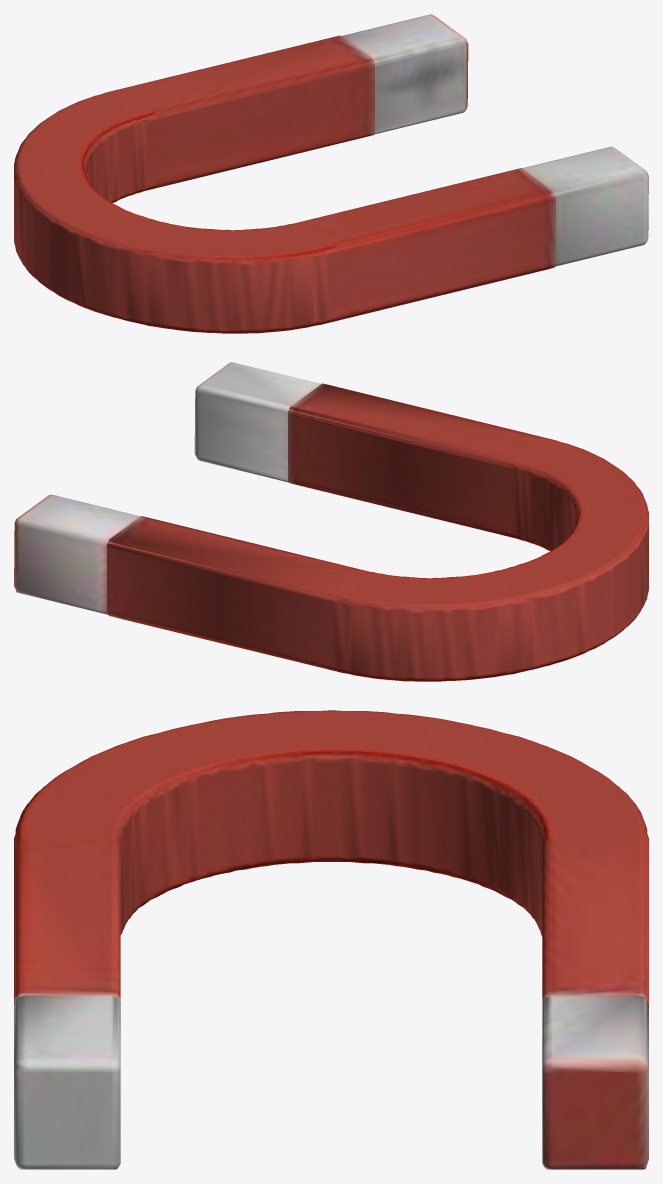
Rendered from kraft_magnet.glb.
3 views of the same model, one above another, from view 1: azimuth 30°, elevation 25°; view 2: azimuth 150°, elevation 25°; view 3: azimuth 270°, elevation 25° (orthographic). The views are drawn at different scales.
Parts seen in each view (by area): view 1: tripo_node_5fec6fc2-bbe0-47f7-9024-55c2220434e2; view 2: tripo_node_5fec6fc2-bbe0-47f7-9024-55c2220434e2; view 3: tripo_node_5fec6fc2-bbe0-47f7-9024-55c2220434e2.
Boxes of the visible parts, box(x1,y1,x2,y2) form: tripo_node_5fec6fc2-bbe0-47f7-9024-55c2220434e2: box(14, 14, 648, 333); tripo_node_5fec6fc2-bbe0-47f7-9024-55c2220434e2: box(14, 362, 648, 681); tripo_node_5fec6fc2-bbe0-47f7-9024-55c2220434e2: box(14, 710, 648, 1169).
Size of the model in its own units: 0.998 by 0.1465 by 0.7559.
1 material, 1 textured.
